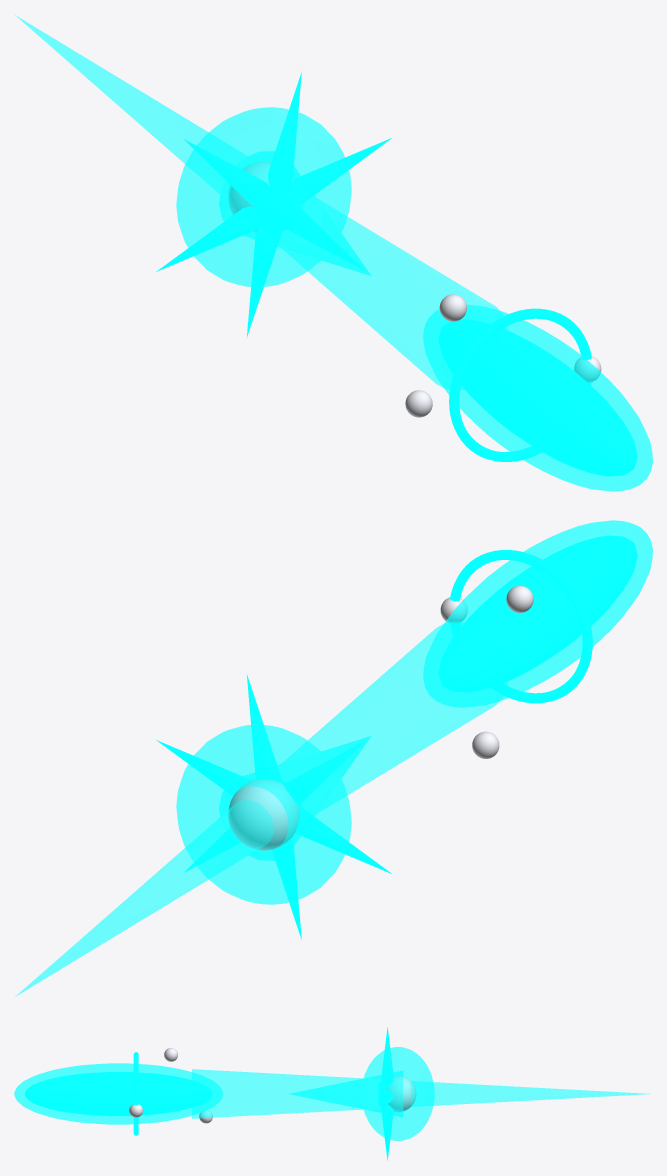
File: SpaceShotgun_Bolt.fbx
3 renders of one model, top to bottom at view 1: azimuth 30°, elevation 25°; view 2: azimuth 150°, elevation 25°; view 3: azimuth 270°, elevation 25°, orthographic. The views are drawn at different scales.
Visible parts, largest first — view 1: SpaceShotgun_Bolt_Pro_Glass_cyan_0.45, SpaceShotgun_Bolt_Pro_Glass_cyan_0.35, SpaceShotgun_Bolt_Pro_Glass_cyan_0.4, SpaceShotgun_Bolt_Pro_Glow_cyan_12, SpaceShotgun_Bolt_Pro_Glow_cyan_14, SpaceShotgun_Bolt_Pro_Glass_cyan_0.5, SpaceShotgun_Bolt_Pro_Glow_cyan_10, SpaceShotgun_Bolt_Pro_Glow_white_14, SpaceShotgun_Bolt_Pro_Glow_white_25; view 2: SpaceShotgun_Bolt_Pro_Glass_cyan_0.35, SpaceShotgun_Bolt_Pro_Glass_cyan_0.4, SpaceShotgun_Bolt_Pro_Glass_cyan_0.45, SpaceShotgun_Bolt_Pro_Glow_cyan_12, SpaceShotgun_Bolt_Pro_Glow_cyan_14, SpaceShotgun_Bolt_Pro_Glass_cyan_0.5, SpaceShotgun_Bolt_Pro_Glow_white_25, SpaceShotgun_Bolt_Pro_Glow_cyan_10, SpaceShotgun_Bolt_Pro_Glow_white_14; view 3: SpaceShotgun_Bolt_Pro_Glass_cyan_0.35, SpaceShotgun_Bolt_Pro_Glass_cyan_0.45, SpaceShotgun_Bolt_Pro_Glow_cyan_12, SpaceShotgun_Bolt_Pro_Glass_cyan_0.4, SpaceShotgun_Bolt_Pro_Glass_cyan_0.5, SpaceShotgun_Bolt_Pro_Glow_cyan_14, SpaceShotgun_Bolt_Pro_Glow_white_25, SpaceShotgun_Bolt_Pro_Glow_white_14, SpaceShotgun_Bolt_Pro_Glow_cyan_10.
Part boxes in pixels (left/top/right/bottom): SpaceShotgun_Bolt_Pro_Glass_cyan_0.45: left=423, top=304, right=652, bottom=491; SpaceShotgun_Bolt_Pro_Glass_cyan_0.35: left=15, top=15, right=507, bottom=389; SpaceShotgun_Bolt_Pro_Glass_cyan_0.4: left=176, top=107, right=351, bottom=286; SpaceShotgun_Bolt_Pro_Glow_cyan_12: left=438, top=319, right=637, bottom=476; SpaceShotgun_Bolt_Pro_Glow_cyan_14: left=156, top=71, right=392, bottom=337; SpaceShotgun_Bolt_Pro_Glass_cyan_0.5: left=219, top=151, right=371, bottom=275; SpaceShotgun_Bolt_Pro_Glow_cyan_10: left=449, top=308, right=591, bottom=461; SpaceShotgun_Bolt_Pro_Glow_white_14: left=405, top=294, right=601, bottom=417; SpaceShotgun_Bolt_Pro_Glow_white_25: left=229, top=162, right=293, bottom=231; SpaceShotgun_Bolt_Pro_Glass_cyan_0.35: left=15, top=621, right=508, bottom=996; SpaceShotgun_Bolt_Pro_Glass_cyan_0.4: left=176, top=725, right=351, bottom=904; SpaceShotgun_Bolt_Pro_Glass_cyan_0.45: left=423, top=520, right=652, bottom=707; SpaceShotgun_Bolt_Pro_Glow_cyan_12: left=438, top=535, right=637, bottom=692; SpaceShotgun_Bolt_Pro_Glow_cyan_14: left=156, top=674, right=392, bottom=940; SpaceShotgun_Bolt_Pro_Glass_cyan_0.5: left=219, top=736, right=371, bottom=860; SpaceShotgun_Bolt_Pro_Glow_white_25: left=228, top=779, right=299, bottom=850; SpaceShotgun_Bolt_Pro_Glow_cyan_10: left=450, top=550, right=592, bottom=703; SpaceShotgun_Bolt_Pro_Glow_white_14: left=440, top=585, right=533, bottom=758; SpaceShotgun_Bolt_Pro_Glass_cyan_0.35: left=192, top=1069, right=649, bottom=1118; SpaceShotgun_Bolt_Pro_Glass_cyan_0.45: left=14, top=1063, right=223, bottom=1124; SpaceShotgun_Bolt_Pro_Glow_cyan_12: left=25, top=1072, right=212, bottom=1115; SpaceShotgun_Bolt_Pro_Glass_cyan_0.4: left=362, top=1047, right=434, bottom=1140; SpaceShotgun_Bolt_Pro_Glass_cyan_0.5: left=289, top=1071, right=402, bottom=1116; SpaceShotgun_Bolt_Pro_Glow_cyan_14: left=379, top=1027, right=393, bottom=1160; SpaceShotgun_Bolt_Pro_Glow_white_25: left=386, top=1076, right=415, bottom=1111; SpaceShotgun_Bolt_Pro_Glow_white_14: left=129, top=1048, right=212, bottom=1123; SpaceShotgun_Bolt_Pro_Glow_cyan_10: left=133, top=1052, right=138, bottom=1135.
Bounding box in the file's own units: 0.1605 × 0.1638 × 0.732.
